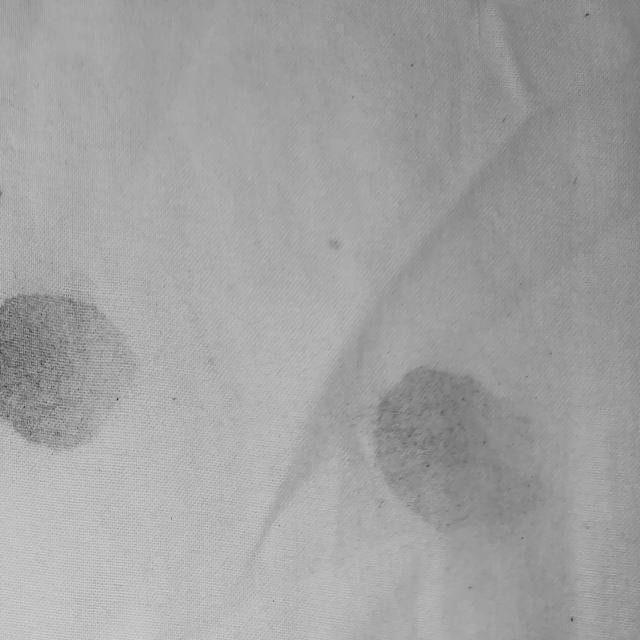Thread_other: (341, 349, 582, 558), (0, 276, 148, 466)
